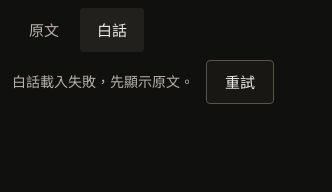
Test: LinePlain › 載入失敗時提示先看原文，重試後顯示白話
The width and height of the screenshot is (332, 192).
Expected: the text "白話載入失敗，先顯示原文。 重試" is shown, [12,60,274,104]
Step 1. Click the button "重試" → {"x": 240, "y": 82}, box [206,60,274,104]
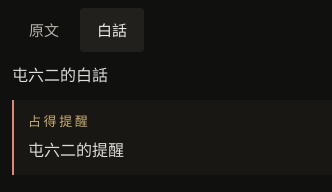
Expected: the text "屯六二的白話" is shown, [12,64,108,86]
